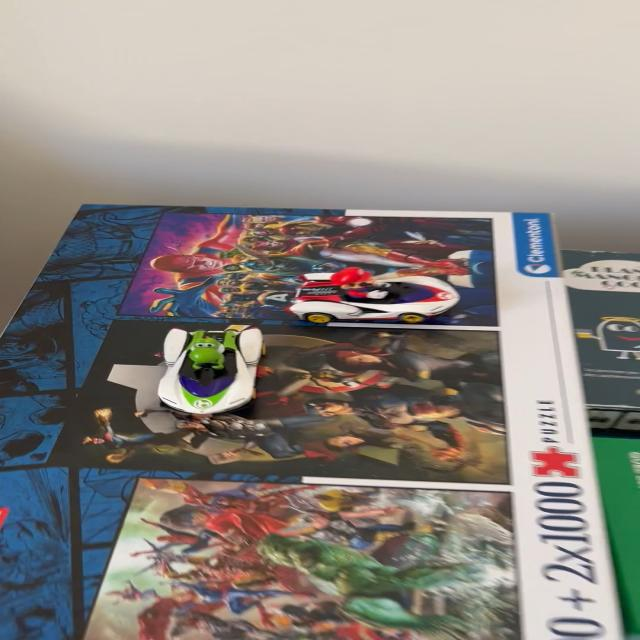mario: (282, 264, 472, 328)
yoshi: (149, 321, 273, 423)
